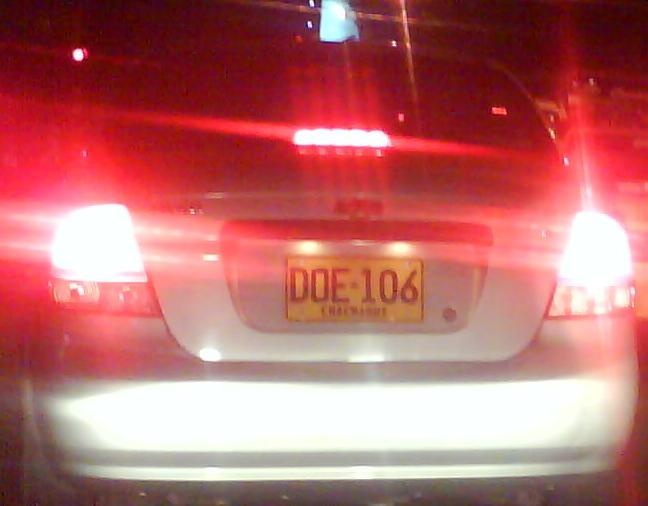placas: (282, 252, 425, 325)
